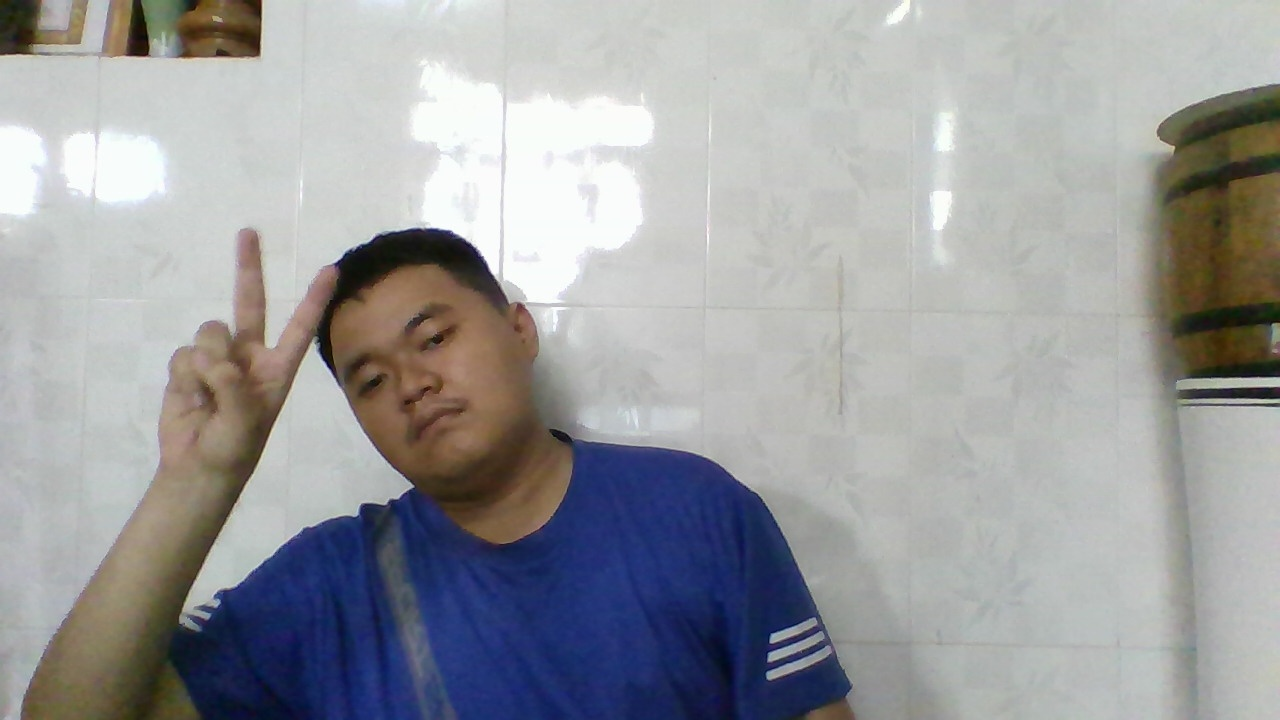V: (165, 220, 347, 484)
